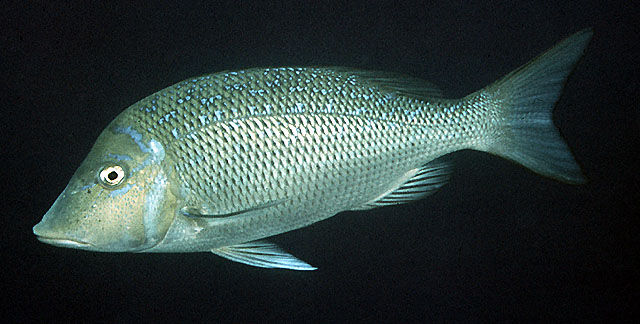fish: (31, 26, 599, 271)
